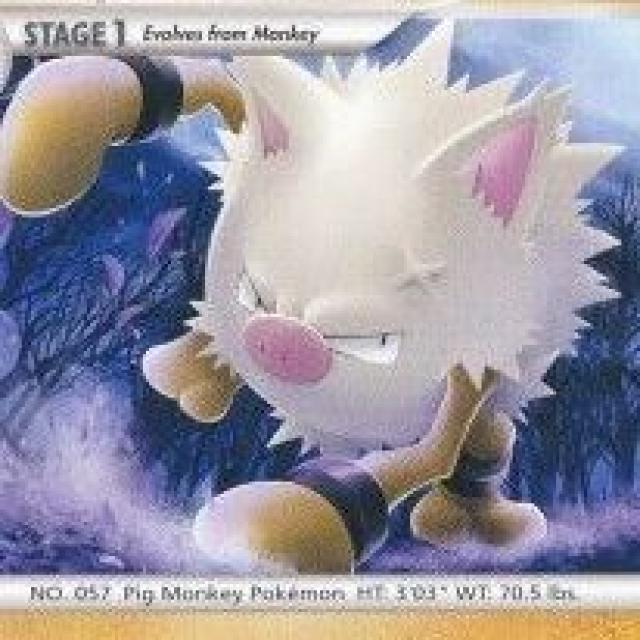Primeape: (132, 57, 566, 566)
